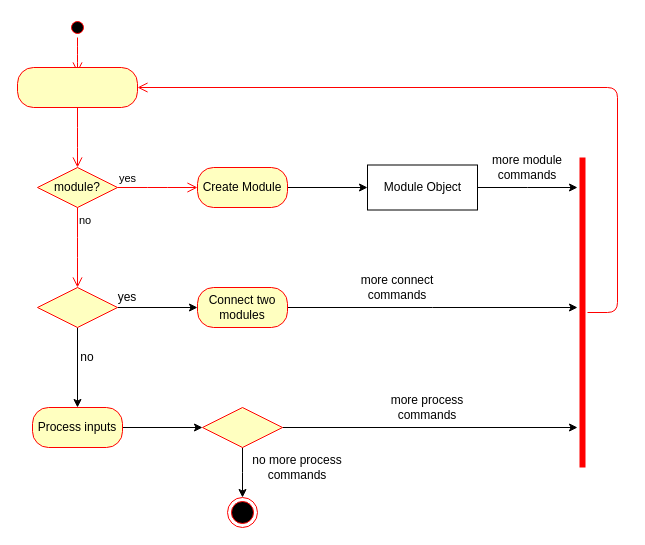
This 645x545 diagram has some shape labels left out. The shapes that lost their labels are listed below. From the top down, each one's centre as x and y in pixels, then its label:
At pixel 77 87: "Input".
At pixel 77 307: "connect?".
